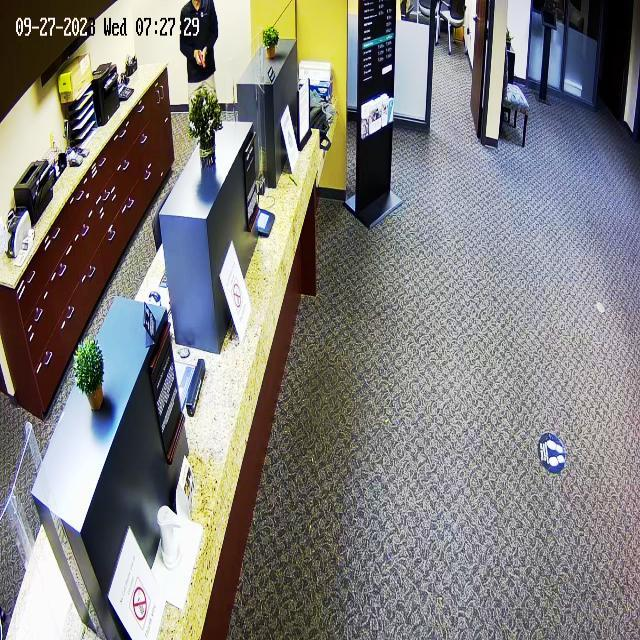Gun: (192, 40, 218, 75)
